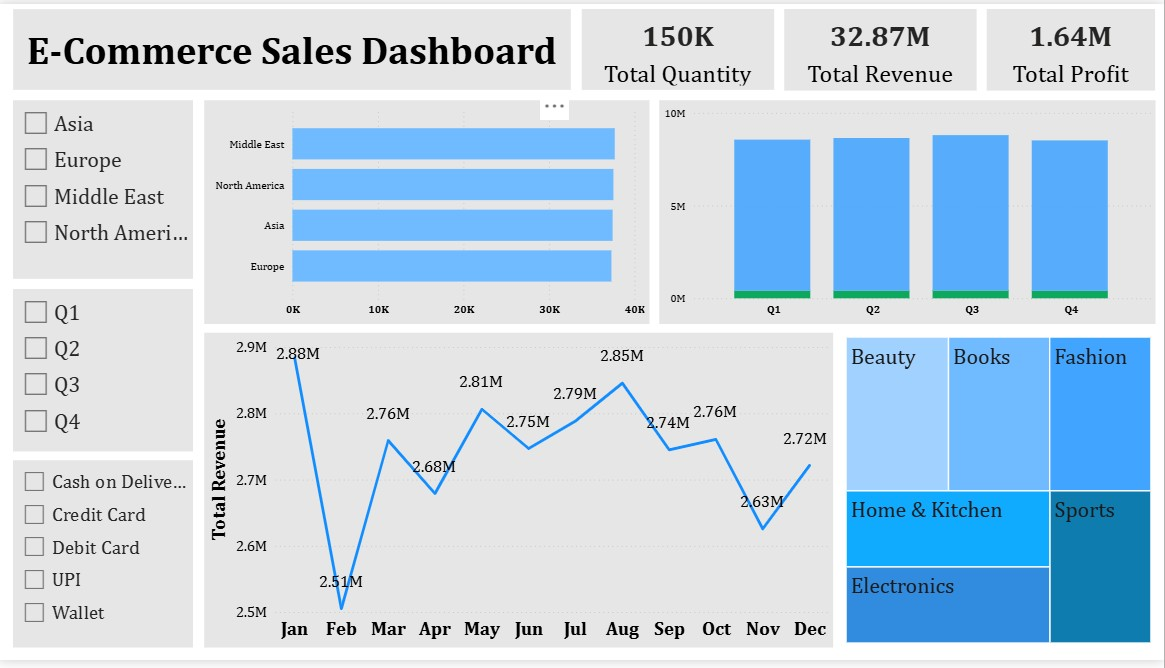

This screenshot's page, from the dashboard's own definition file:
{"tool":"powerbi","page":{"name":"Page 1","canvas":[1280,720],"ordinal":0},"visuals":[{"type":"card","fields":{"Values":["e-commerce dataset.Total Quantity"]},"box":[640.8,5.5,211.3,89.2],"z":0},{"type":"card","fields":{"Values":["e-commerce dataset.Total Revenue"]},"box":[863.8,5.6,211.1,89.5],"z":1000},{"type":"slicer","fields":{"Values":["e-commerce dataset.payment_method"]},"box":[16.5,500.9,197.6,205.8],"z":2000},{"type":"card","fields":{"Values":["e-commerce dataset.Total Profit"]},"box":[1086,5.6,184.5,89.5],"z":3000},{"type":"slicer","fields":{"Values":["e-commerce dataset.Quarter"]},"box":[16.5,312.9,197.6,178.4],"z":4000},{"type":"lineChart","fields":{"Y":["e-commerce dataset.Total Revenue"],"Category":["e-commerce dataset.Month_short"]},"box":[226.4,360.9,690.2,345.8],"z":5000},{"type":"slicer","fields":{"Values":["e-commerce dataset.customer_region"]},"box":[16.5,105.7,197.6,196.2],"z":6000},{"type":"treemap","fields":{"Values":["e-commerce dataset.Total Profit"],"Group":["e-commerce dataset.product_category"]},"box":[926.2,360.9,344.4,345.8],"z":7000},{"type":"columnChart","fields":{"Y":["e-commerce dataset.Total Profit","e-commerce dataset.Total Revenue"],"Category":["e-commerce dataset.Quarter"]},"box":[725.9,105.7,544.8,245.6],"z":8000},{"type":"barChart","fields":{"Category":["e-commerce dataset.customer_region"],"Y":["Sum(e-commerce dataset.quantity_sold)"]},"box":[226.4,105.7,488.5,245.6],"z":9000},{"type":"shape","box":[16.5,5.5,612,89.2],"z":10000}]}

Visuals, with their boxes in screenshot pixels (x1, y1, x2, y2), scaled from the page's 1280x720 canvas onto the 1165x668 screenshot:
card - e-commerce dataset.Total Quantity: select_region(583, 5, 776, 88)
card - e-commerce dataset.Total Revenue: select_region(786, 5, 978, 88)
slicer - e-commerce dataset.payment_method: select_region(15, 465, 195, 656)
card - e-commerce dataset.Total Profit: select_region(988, 5, 1156, 88)
slicer - e-commerce dataset.Quarter: select_region(15, 290, 195, 456)
lineChart - e-commerce dataset.Total Revenue x e-commerce dataset.Month_short: select_region(206, 335, 834, 656)
slicer - e-commerce dataset.customer_region: select_region(15, 98, 195, 280)
treemap - e-commerce dataset.Total Profit x e-commerce dataset.product_category: select_region(843, 335, 1156, 656)
columnChart - e-commerce dataset.Total Profit x e-commerce dataset.Total Revenue: select_region(661, 98, 1157, 326)
barChart - e-commerce dataset.customer_region x Sum(e-commerce dataset.quantity_sold): select_region(206, 98, 651, 326)
shape: select_region(15, 5, 572, 88)
